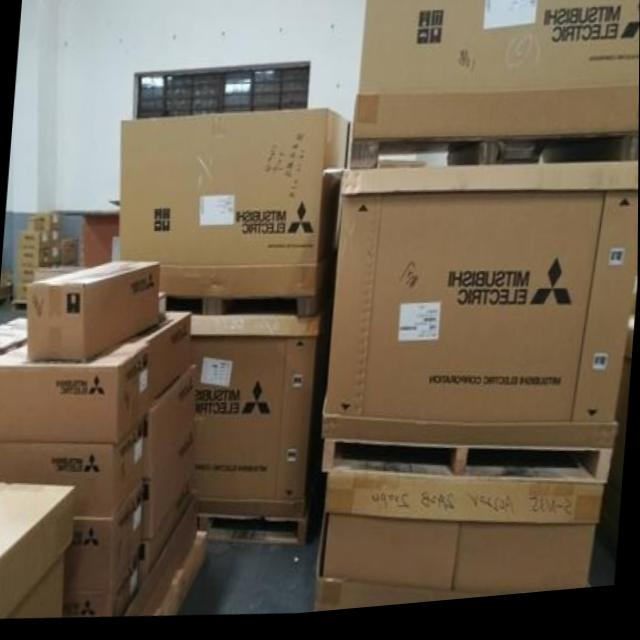box: (323, 172, 639, 434), (118, 114, 351, 304), (353, 0, 640, 150), (0, 314, 192, 446), (189, 340, 329, 507), (25, 263, 158, 365), (0, 425, 142, 519), (321, 517, 460, 598), (451, 529, 598, 600), (61, 485, 141, 593), (141, 427, 196, 543), (141, 372, 198, 483), (138, 482, 195, 593), (62, 553, 139, 618)
